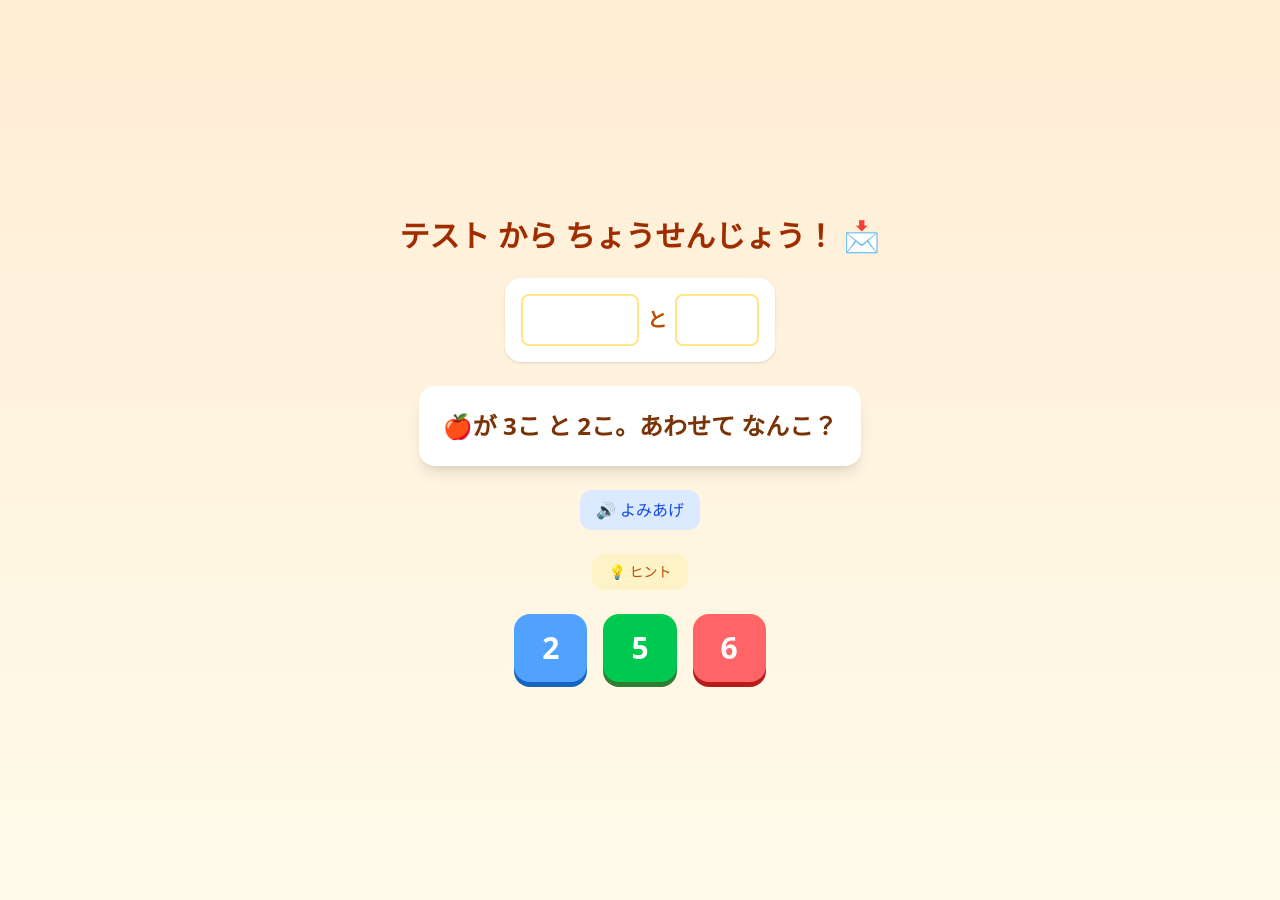
Test: ParentSolveScreen › あまりのない問題は 1回 正解すると せいかい
The width and height of the screenshot is (1280, 900).
What coordinates should you click on to do the following:
click the button "5"
I would click on:
 (640, 648)
Its box is [603,614,677,682].
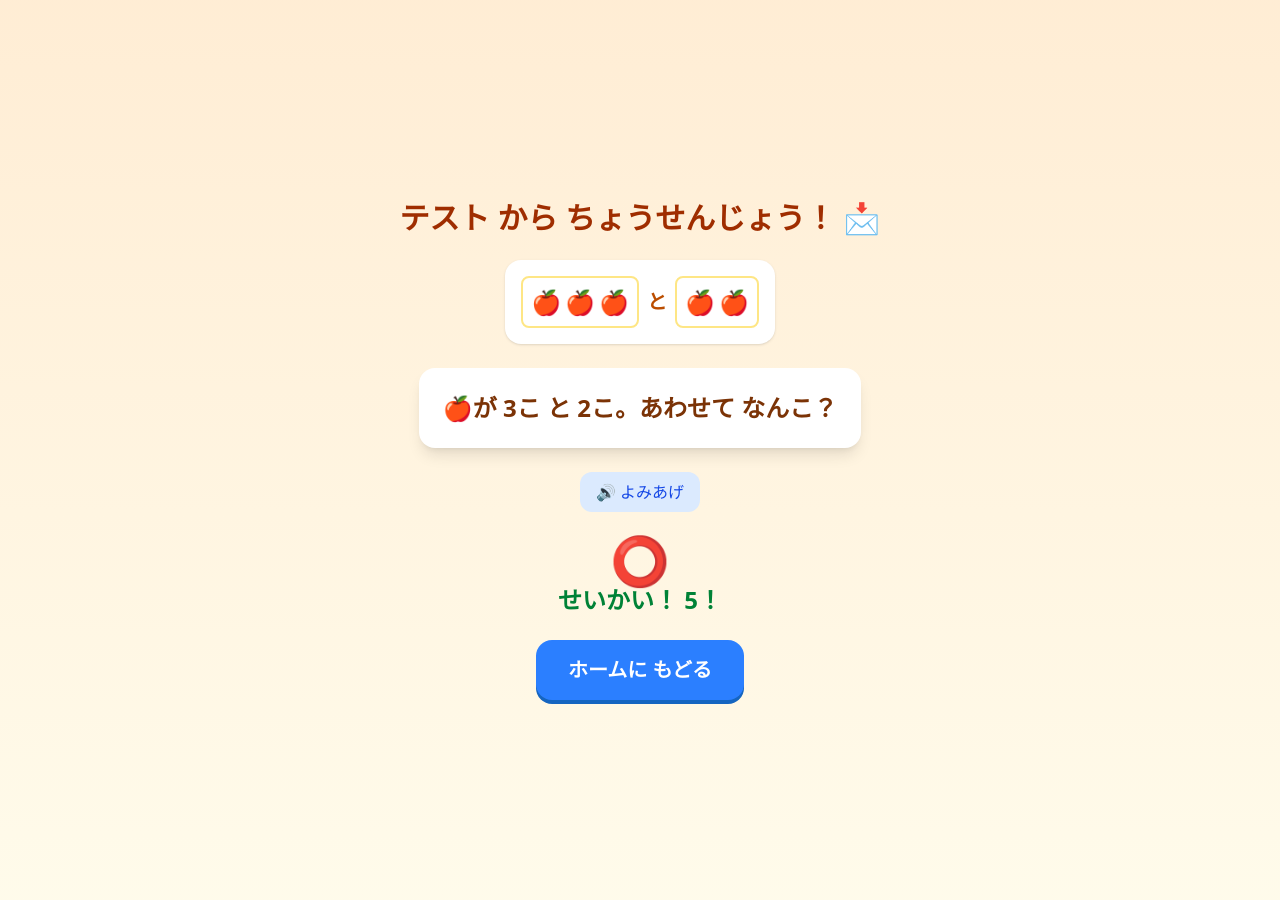
Check: the text "せいかい！ 5！" is shown, box [558,584,722,616]
